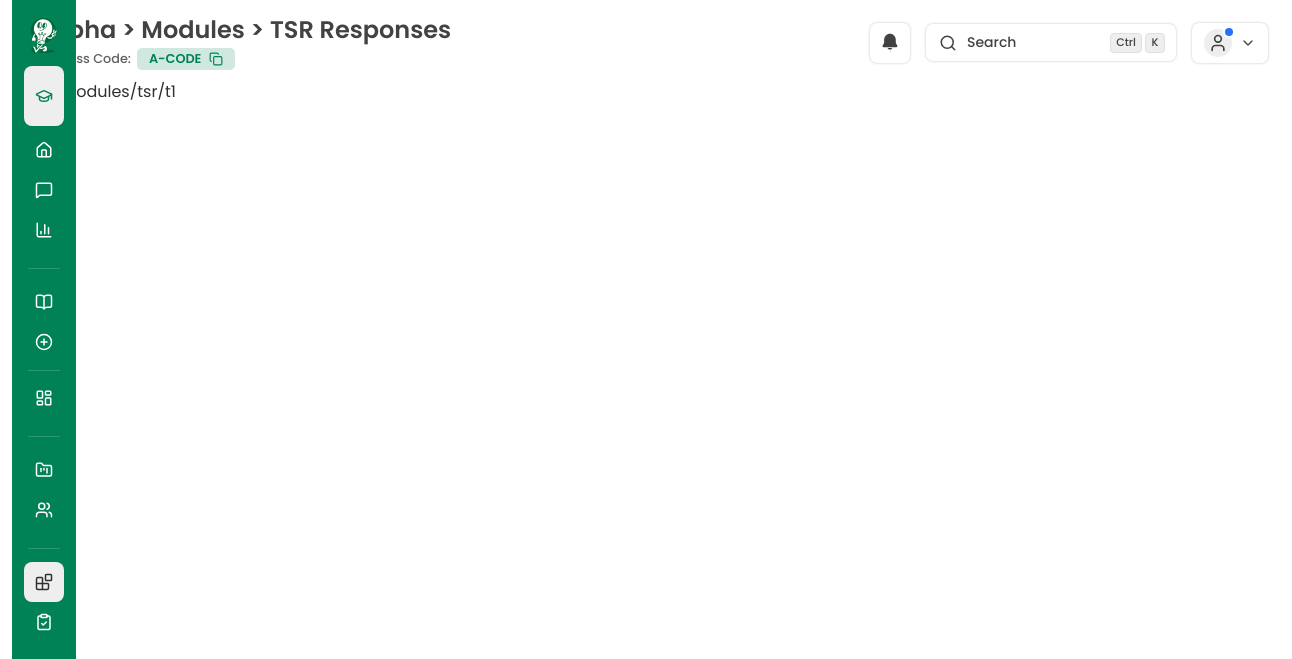
Test: switching class on a detail page › never shows the detail page with the new class (profile-menu school switcher)
Click the button named "Profile menu" at (1230, 43), box 1192,23 -> 1268,63
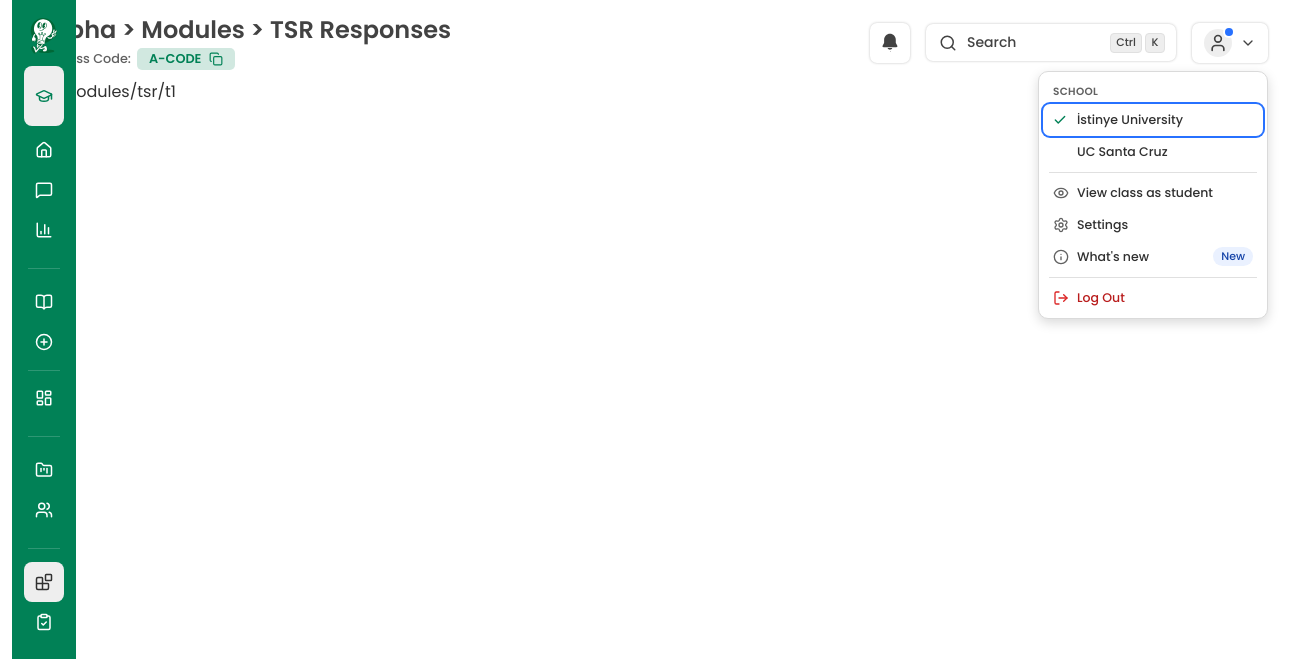
Click the menu item "UC Santa Cruz" at (1153, 152), box 1043,136 -> 1263,168
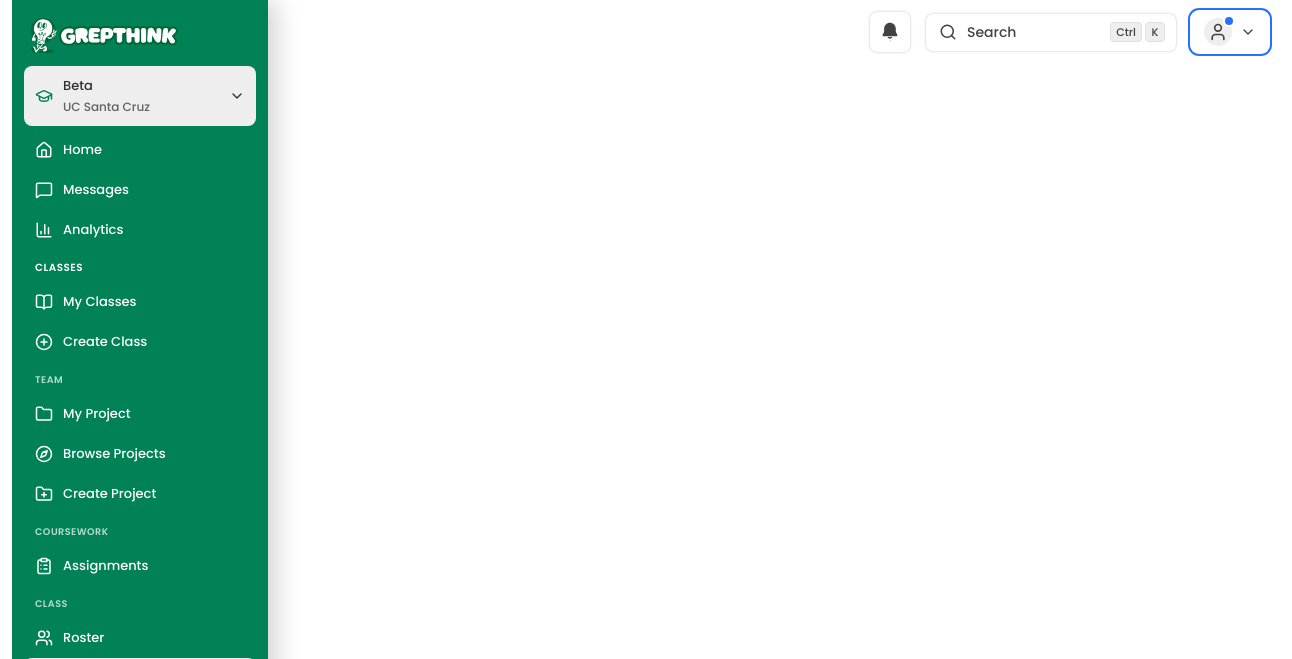
Expected: the text with test id "page" reads "/app/ta-meetings", 12,64 -> 161,87
